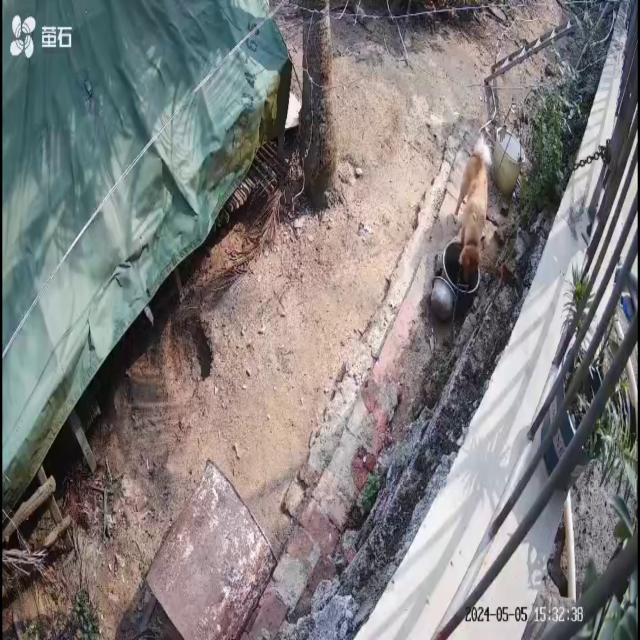dog: (455, 136, 493, 284)
